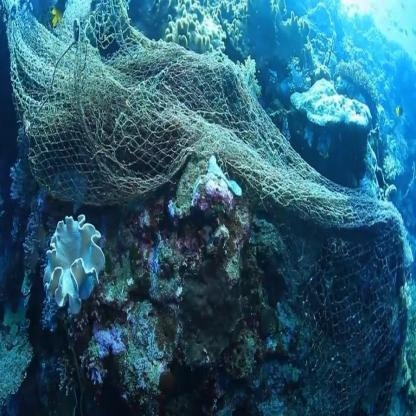net: (55, 4, 382, 248)
